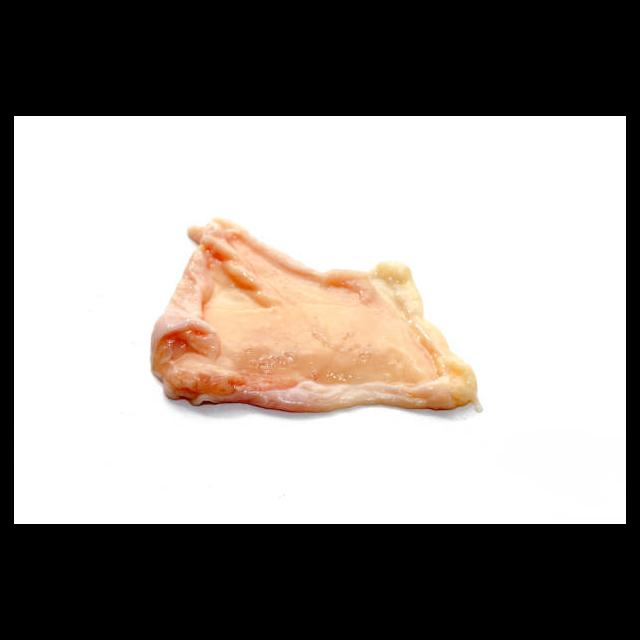chicken: (150, 216, 487, 419)
